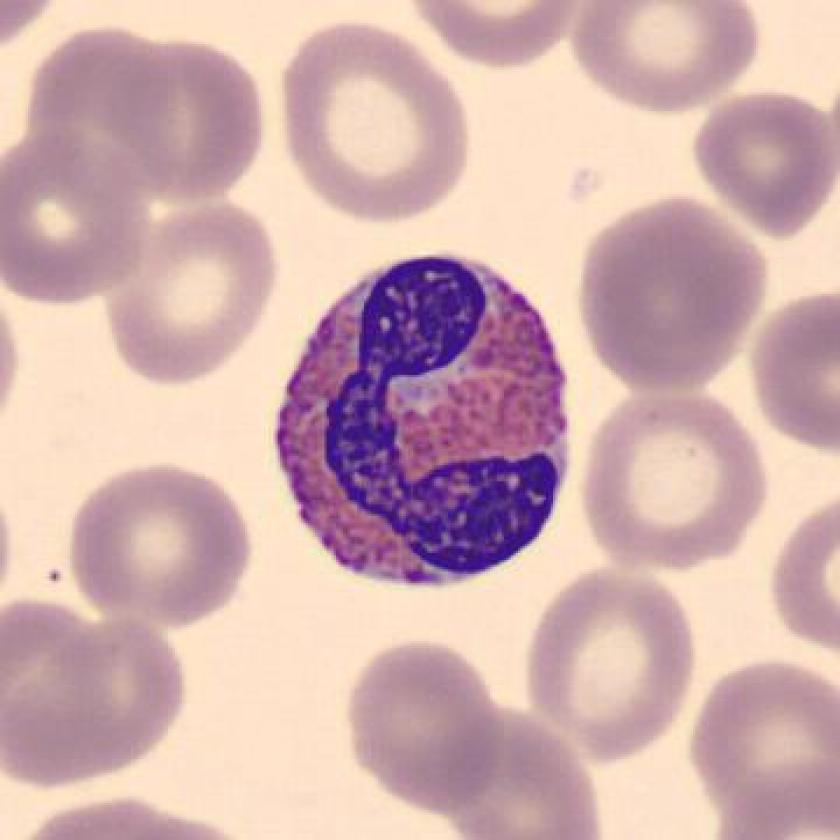eosinophil: (263, 239, 585, 603)
